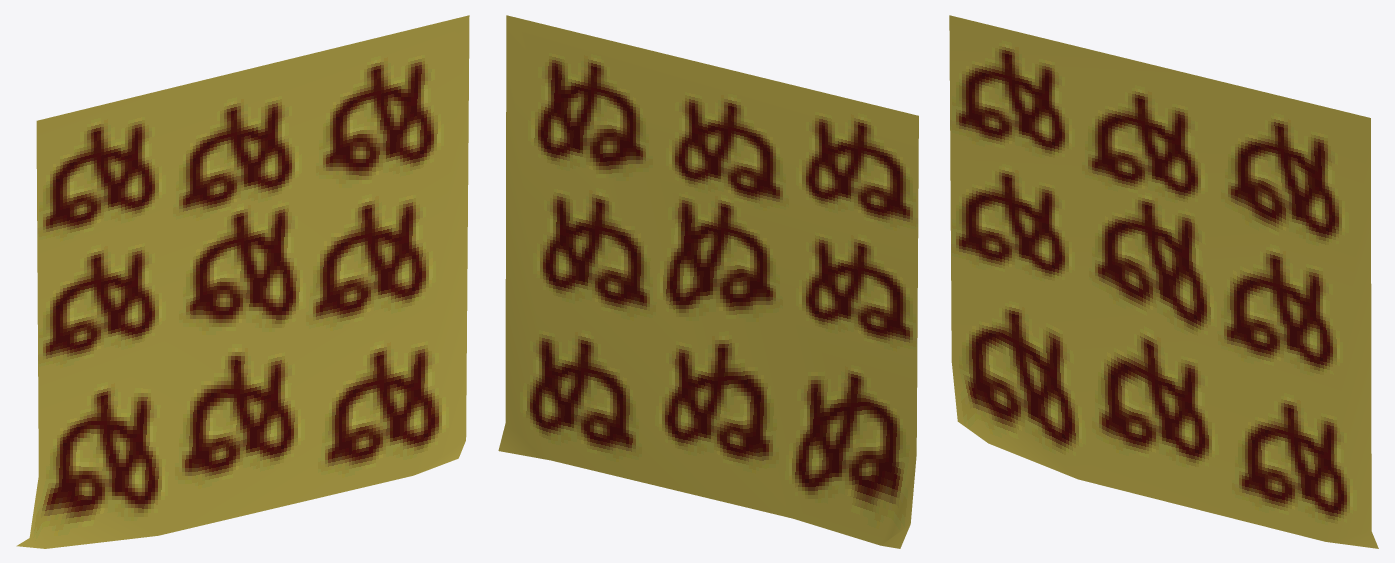
File: ps2_save-icons_bobobouboboubobo-shuumaretaikanboubobo.glb
3 views of the same model, side by side, from view 1: azimuth 30°, elevation 25°; view 2: azimuth 150°, elevation 25°; view 3: azimuth 330°, elevation 25° (orthographic). The views are drawn at different scales.
Parts seen in each view (by area): view 1: icon1.ico; view 2: icon1.ico; view 3: icon1.ico.
Boxes of the visible parts, box(x1,y1,x2,y2) form: icon1.ico: box(16, 15, 469, 548); icon1.ico: box(498, 15, 918, 548); icon1.ico: box(949, 15, 1378, 548).
Size of the model in its own units: 2.5 by 2.49 by 0.2166.
Materials: 1 (1 with a texture image).
